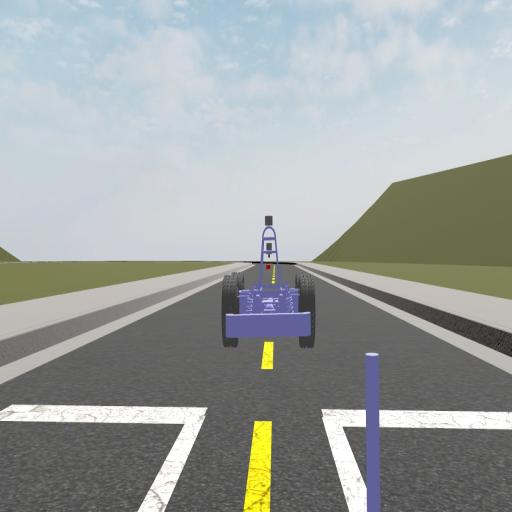ERP-42: (222, 221, 316, 348)
